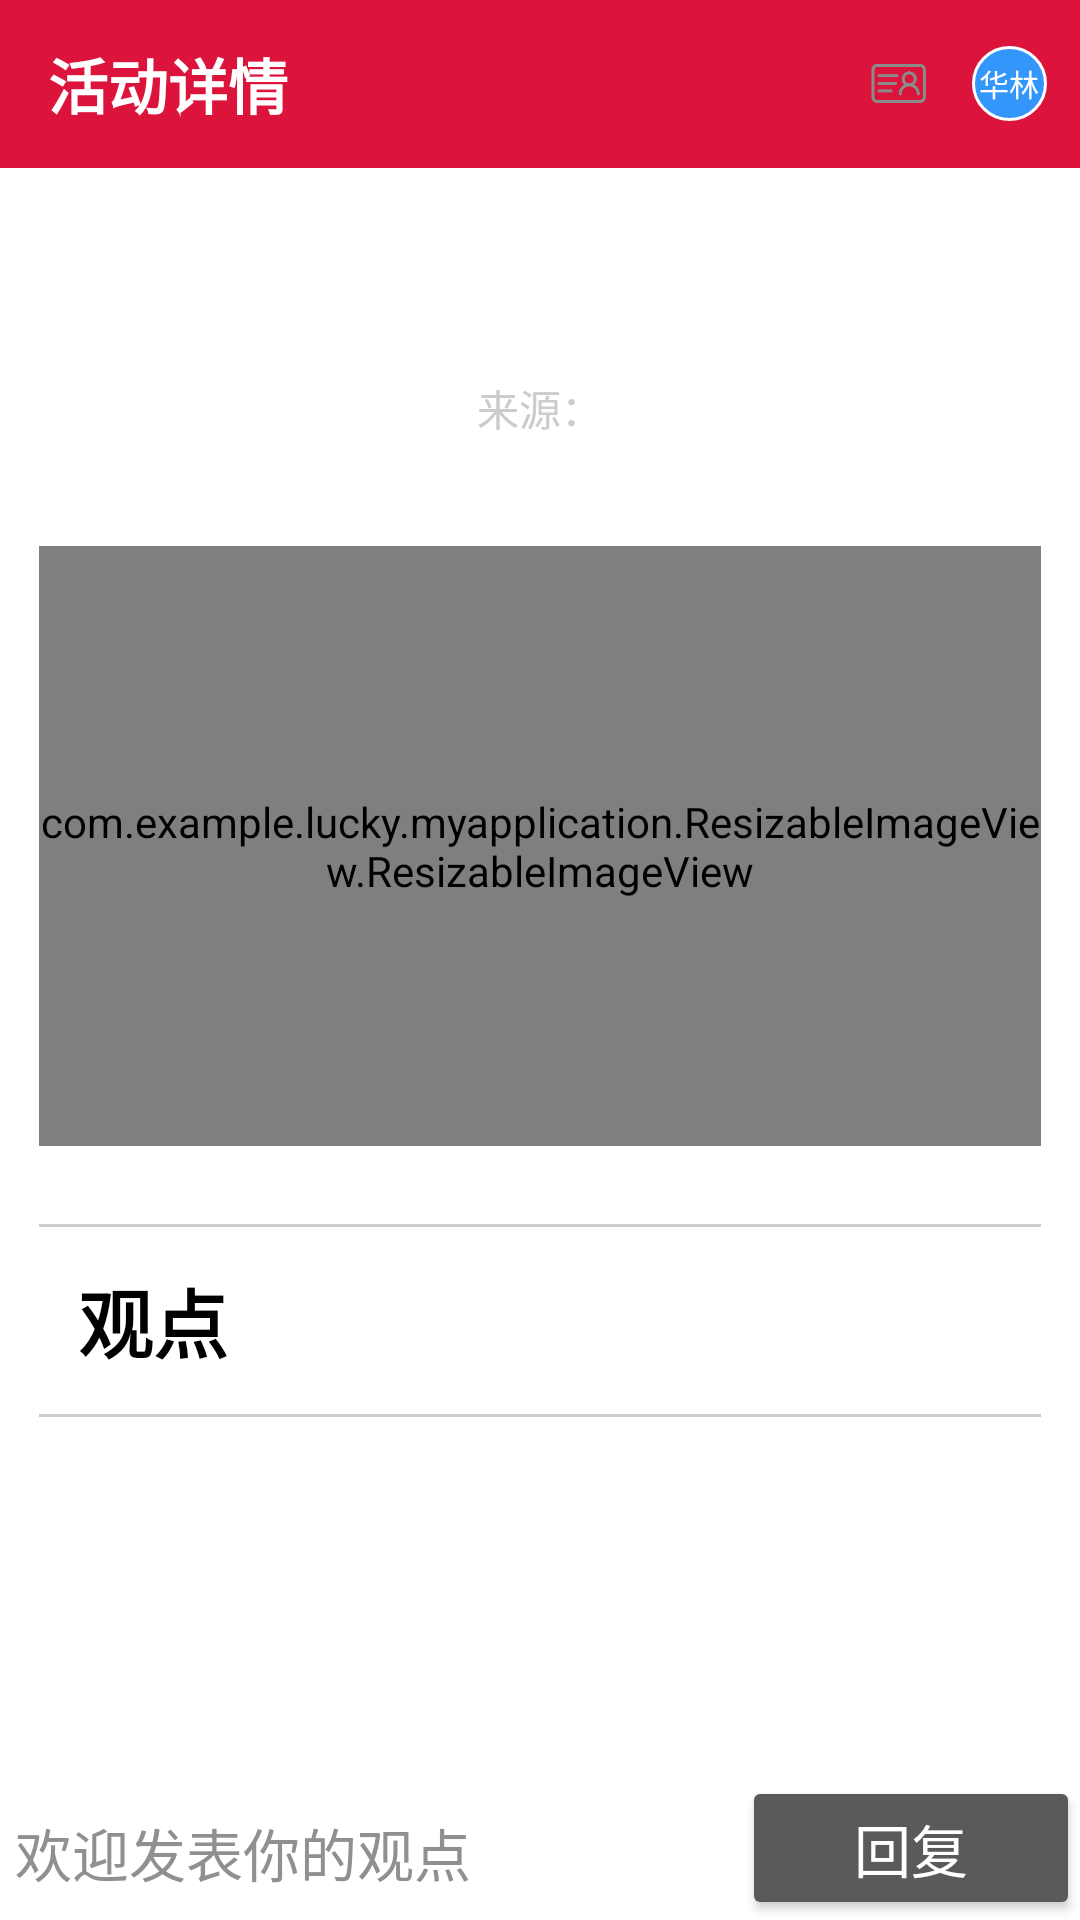

Icon click points for this 1080 x 1920 phone screenshot, format (x,y):
ident: (898,83)
